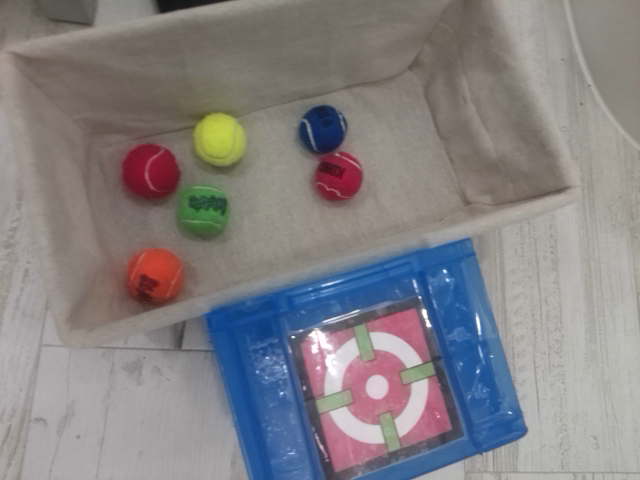blue-ball: (298, 104, 349, 155)
drop-bin: (286, 296, 464, 480)
green-ball: (176, 183, 231, 241)
orange-ball: (124, 246, 184, 304)
red-ball: (121, 142, 181, 199), (313, 151, 364, 201)
yellow-ball: (192, 112, 247, 170)
